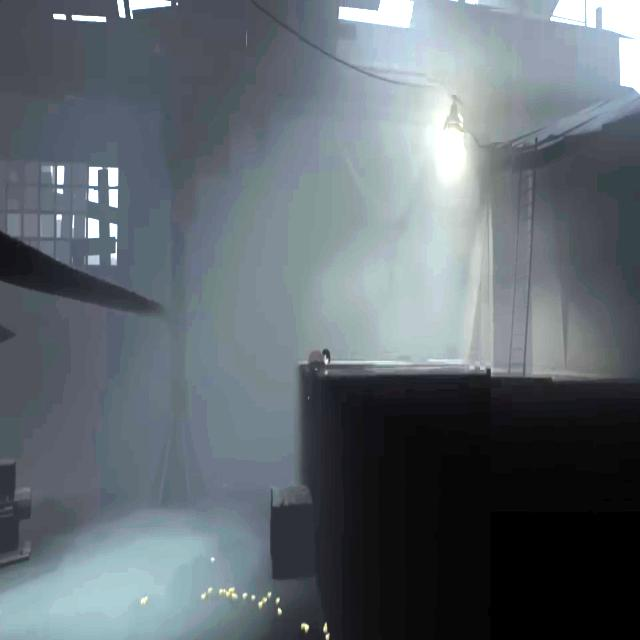boy: (318, 347, 331, 371)
